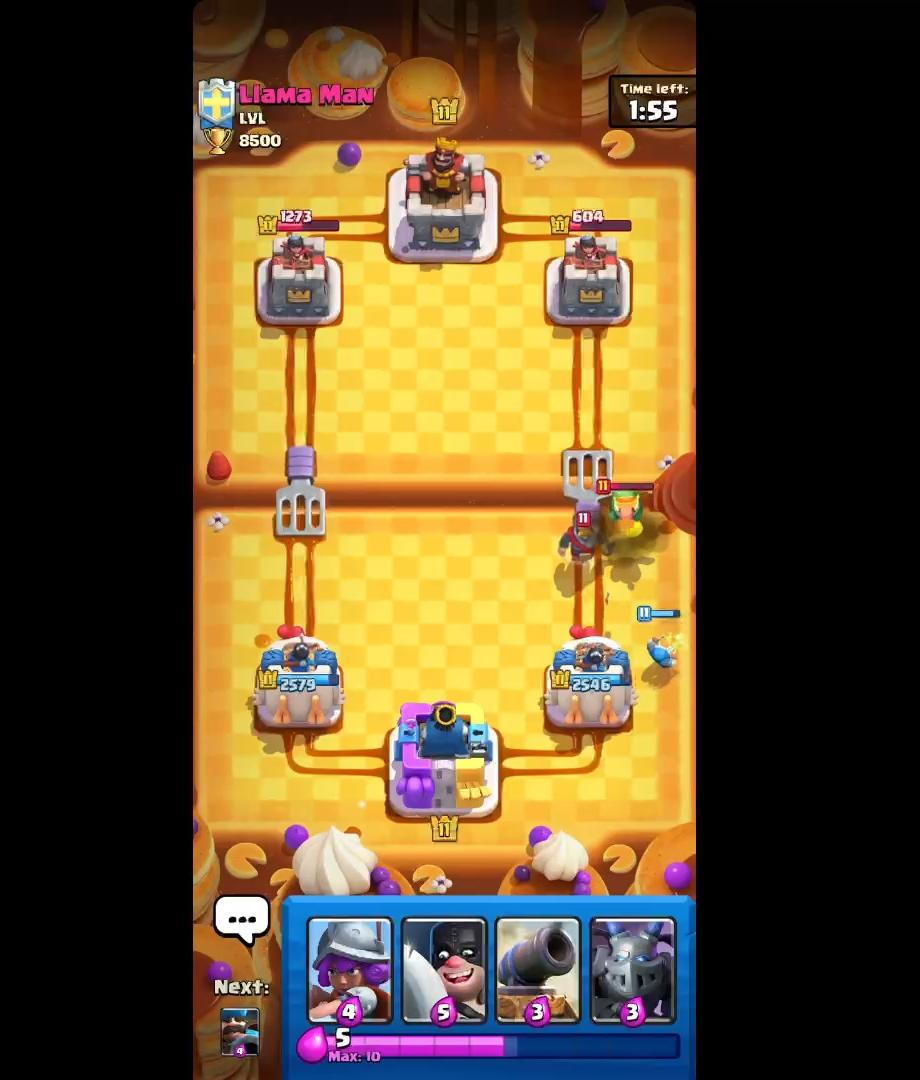Baby Dragon: (591, 471, 656, 532)
Knight: (557, 506, 615, 571)
